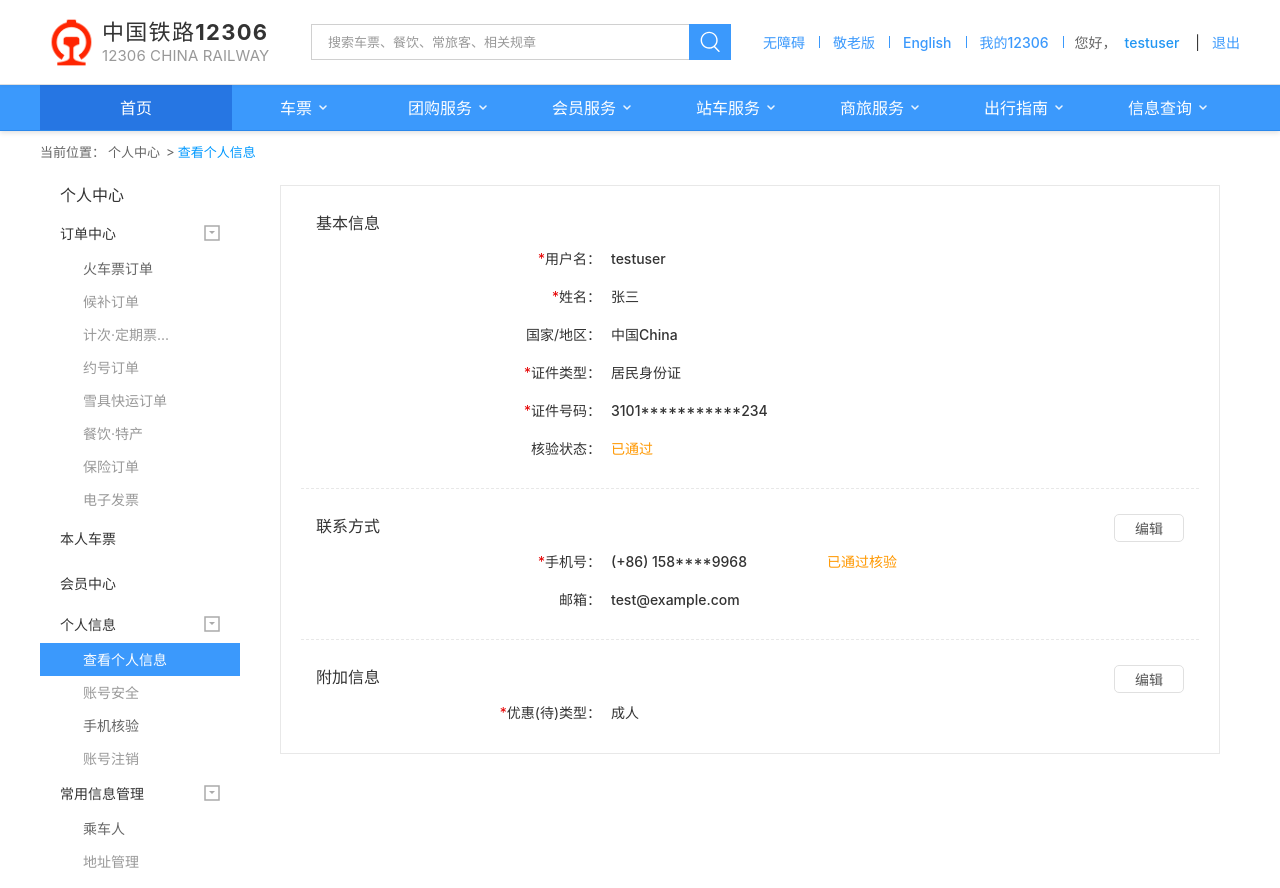
Test: PersonalInfoPage - 用户基本信息页 › 6.3 修改联系方式模块 › 点击联系方式模块的"编辑"按钮后，应该显示"去手机核验修改"
The width and height of the screenshot is (1280, 888).
Expected: the element with class "contact-info-section" is shown, [280,488,1220,640]
Click the button with class "edit-button" in the row of "联系方式".
click(1149, 528)  # box [1114,514,1184,542]
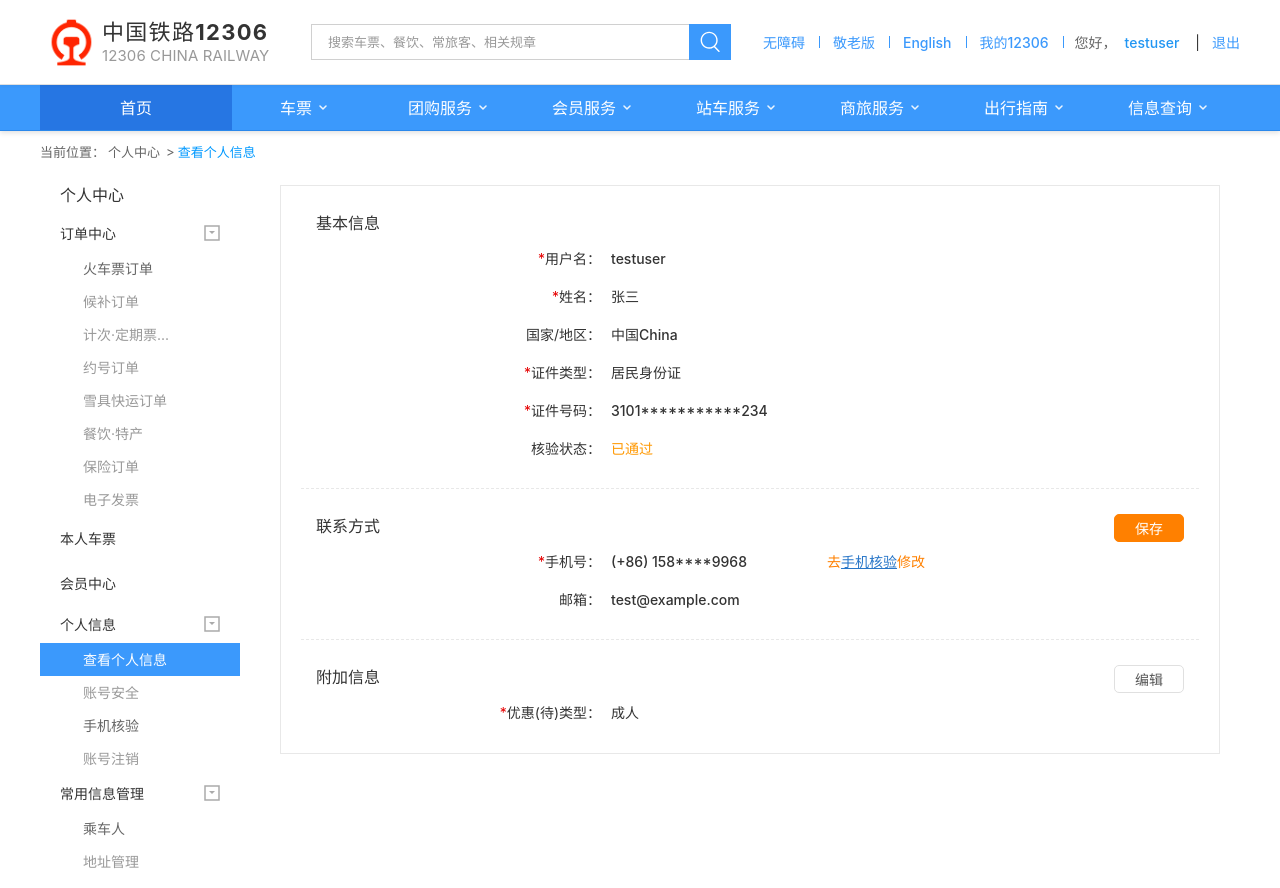
Expected: the element showing "去手机核验修改" is shown, [827,548,925,576]
